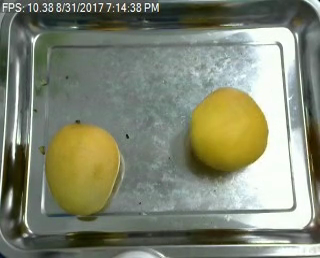Mango: (41, 122, 125, 217), (185, 85, 273, 172)
